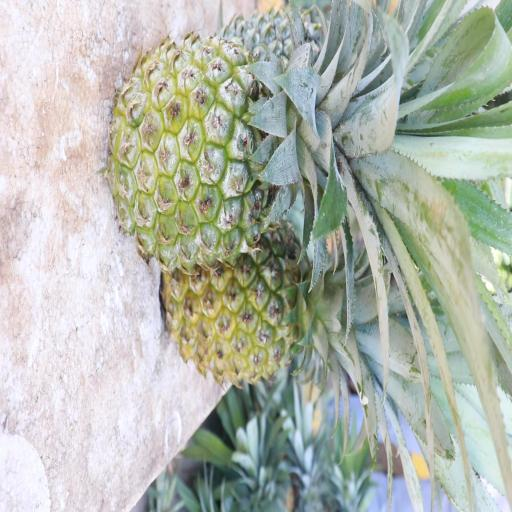------------------------------: (104, 34, 405, 284)
Pineapple - v8 v1: (157, 207, 393, 397)
